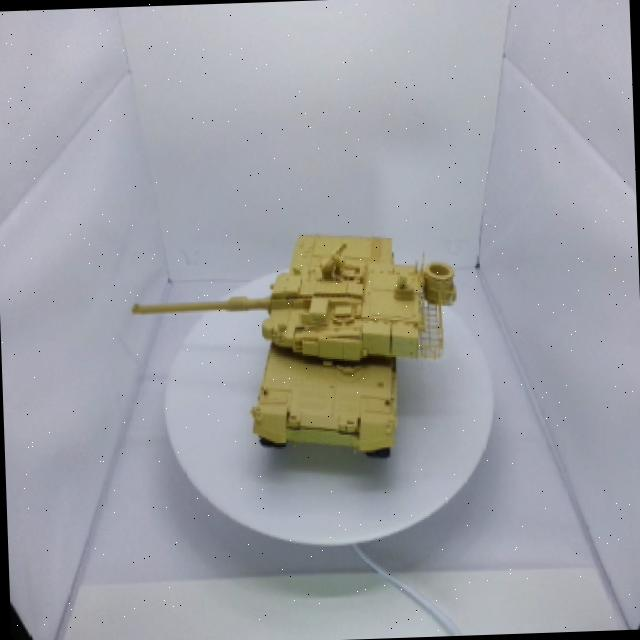korea tank: (107, 187, 494, 496)
